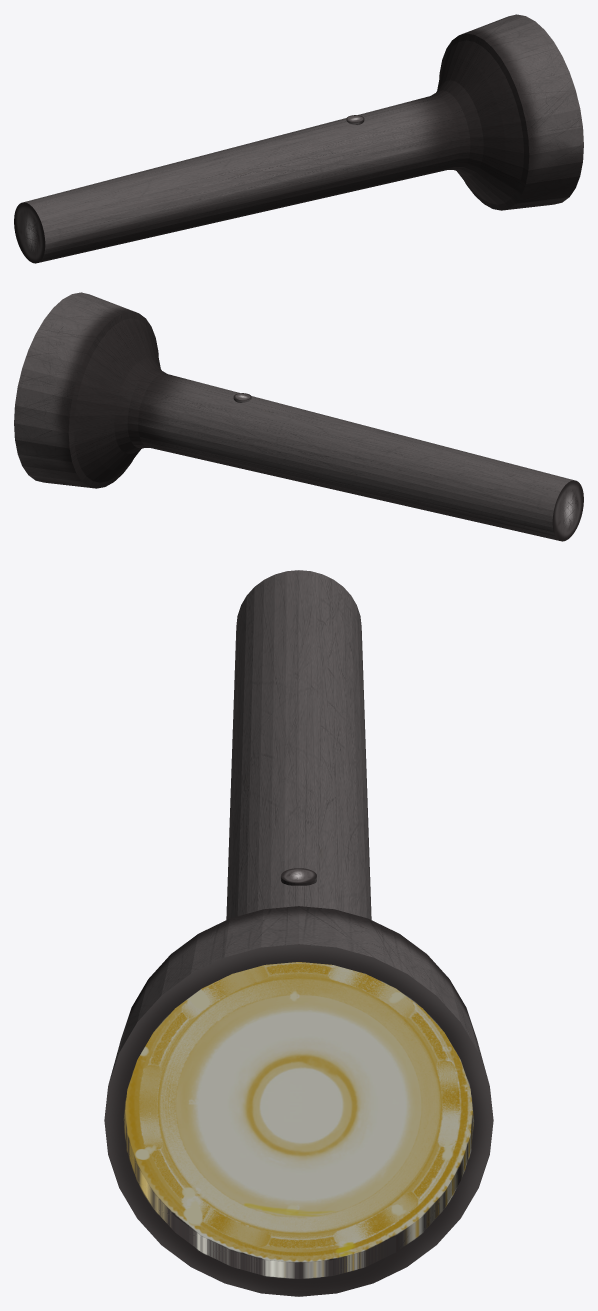
File: Flashlight_Untextured (1).fbx
The picture shows the model from 3 angles, top to bottom: view 1: azimuth 30°, elevation 25°; view 2: azimuth 150°, elevation 25°; view 3: azimuth 270°, elevation 25°; orthographic projection. The views are drawn at different scales.
Visible parts, largest first — view 1: Cylinder; view 2: Cylinder; view 3: Cylinder.
Part boxes in pixels (<box>): Cylinder: <box>14,14,583,263</box>; Cylinder: <box>14,292,583,541</box>; Cylinder: <box>104,570,493,1296</box>.
Size of the model in its own units: 36 by 12 by 12.
